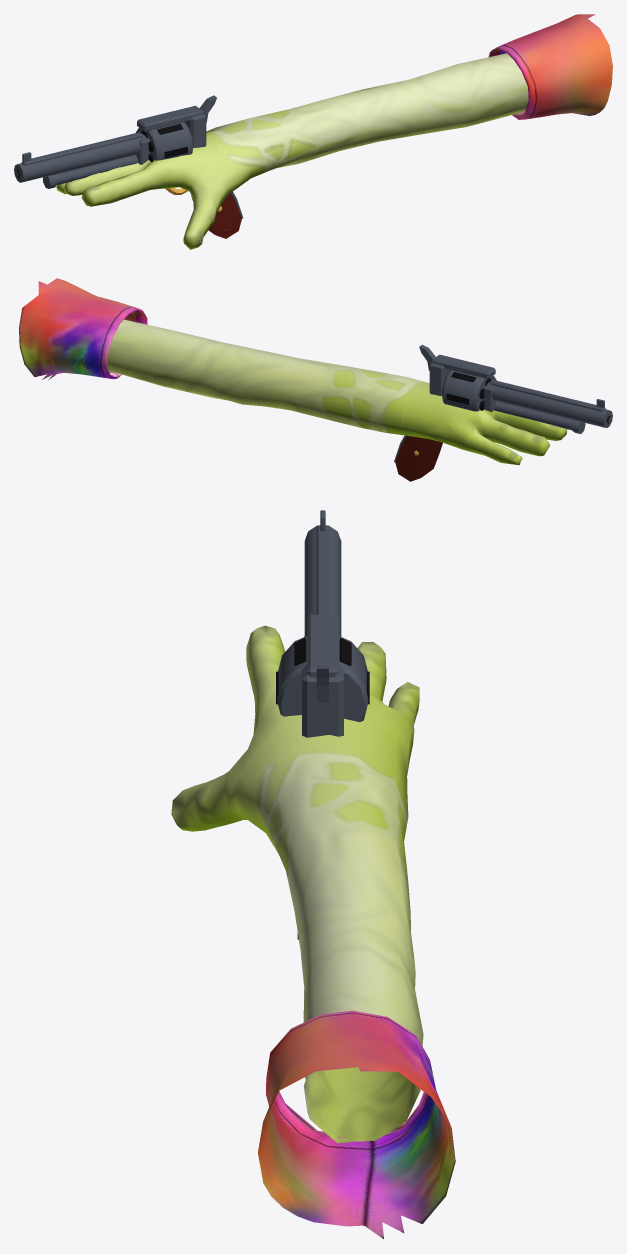
Rendered from tb_exec3_arm.glb.
The picture shows the model from 3 angles, top to bottom: view 1: azimuth 30°, elevation 25°; view 2: azimuth 150°, elevation 25°; view 3: azimuth 270°, elevation 25°; orthographic projection. The views are drawn at different scales.
Visible parts, largest first — view 1: exec_arm; view 2: exec_arm; view 3: exec_arm.
Boxes of the visible parts, bbox=[...] form: exec_arm: bbox=[14, 14, 612, 249]; exec_arm: bbox=[19, 278, 612, 481]; exec_arm: bbox=[171, 510, 455, 1238].
Size of the model in its own units: 1.04 by 0.2338 by 0.2277.
6 materials, 3 textured.
